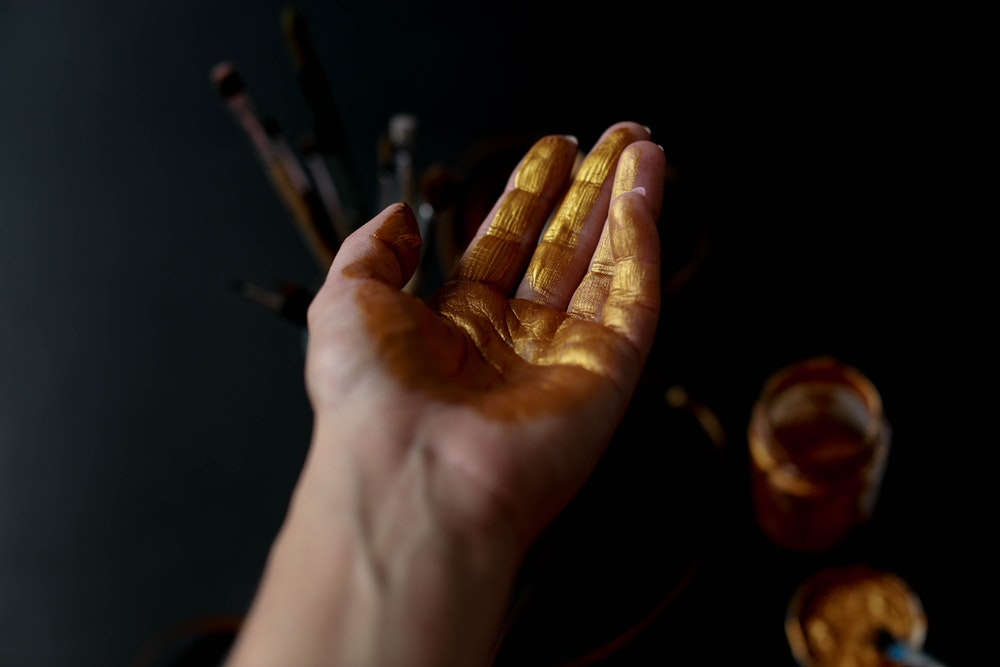palm: (395, 281, 588, 490)
